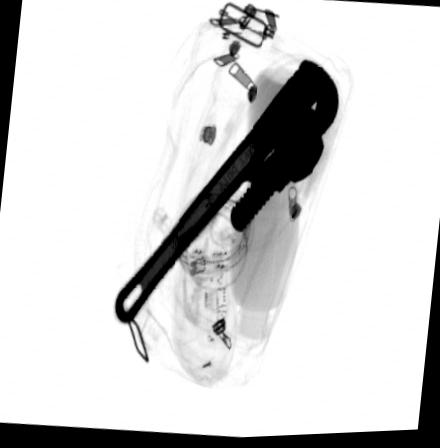Wrench: (111, 60, 340, 326)
